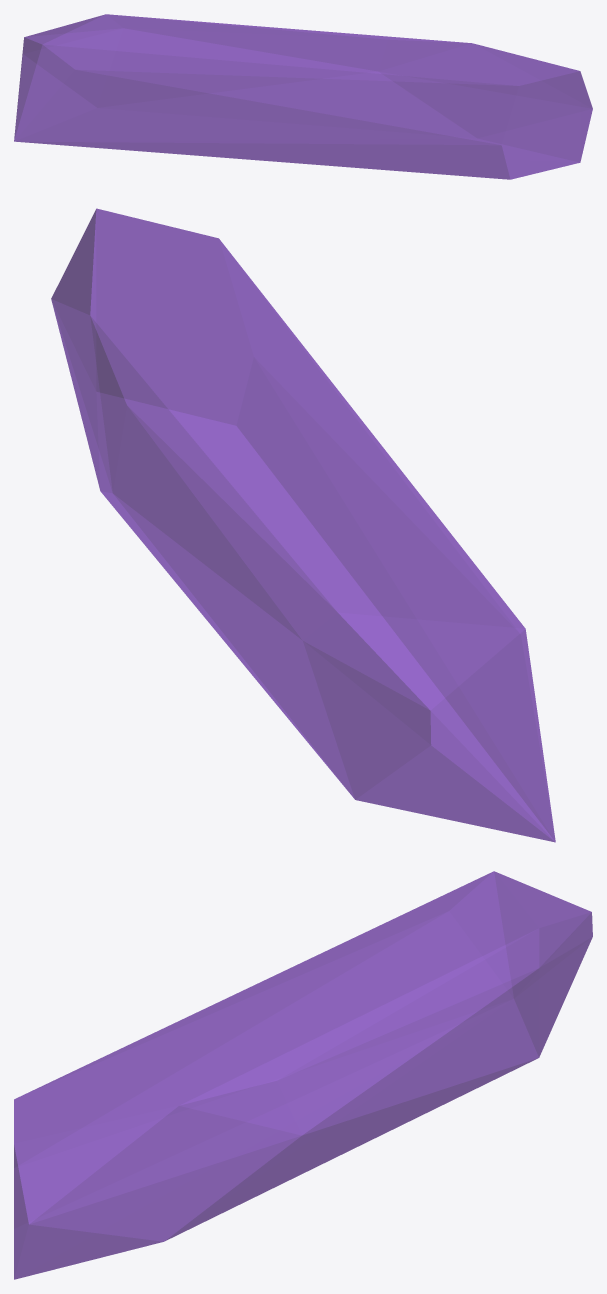
3 views of the same model, one above another, from view 1: azimuth 30°, elevation 25°; view 2: azimuth 150°, elevation 25°; view 3: azimuth 270°, elevation 25° (orthographic). The views are drawn at different scales.
Visible parts, largest first — view 1: Shape_IndexedFaceSet.022_Shape_IndexedFaceSet.8301; view 2: Shape_IndexedFaceSet.022_Shape_IndexedFaceSet.8301; view 3: Shape_IndexedFaceSet.022_Shape_IndexedFaceSet.8301.
Boxes of the visible parts, left/top/right/bottom form: Shape_IndexedFaceSet.022_Shape_IndexedFaceSet.8301: left=14, top=14, right=592, bottom=179; Shape_IndexedFaceSet.022_Shape_IndexedFaceSet.8301: left=51, top=208, right=555, bottom=842; Shape_IndexedFaceSet.022_Shape_IndexedFaceSet.8301: left=14, top=871, right=592, bottom=1279.
Bounding box in the file's own units: 0.2994 × 0.0665 × 0.2432.
